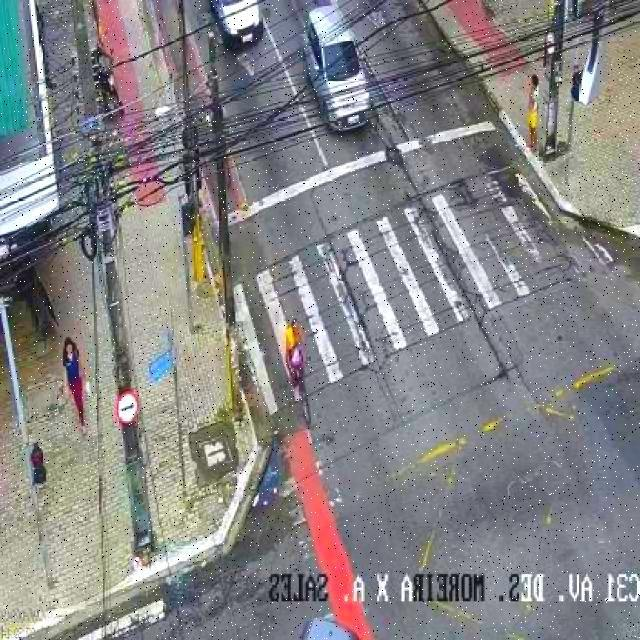Car: (303, 5, 374, 134)
Cycle: (281, 318, 313, 431)
